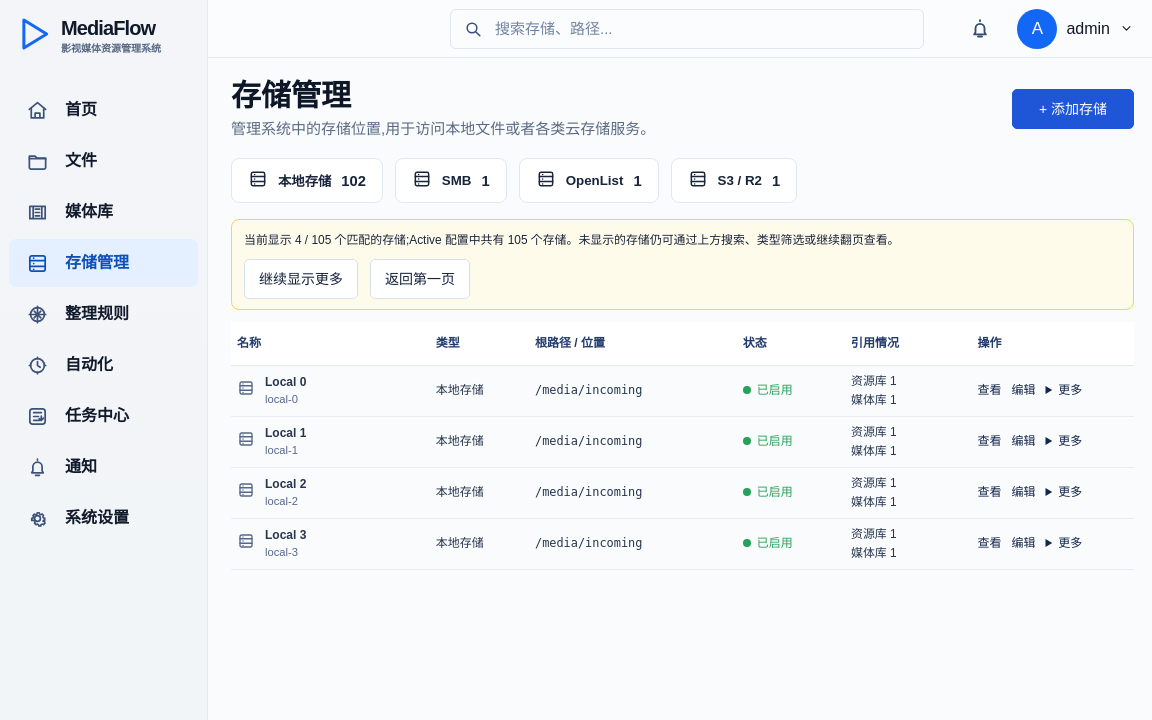
Test: Storage management journey › discloses truncation and reaches every Storage through bounded paging
Expected: the heading "存储管理" is shown, [231,79,351,112]
Expected: the table is shown, [231,322,1134,570]
# Explicit bounded continuation reaches the object beyond the page.
Click the button "继续显示更多" at [301, 279], box [244,259,358,299]
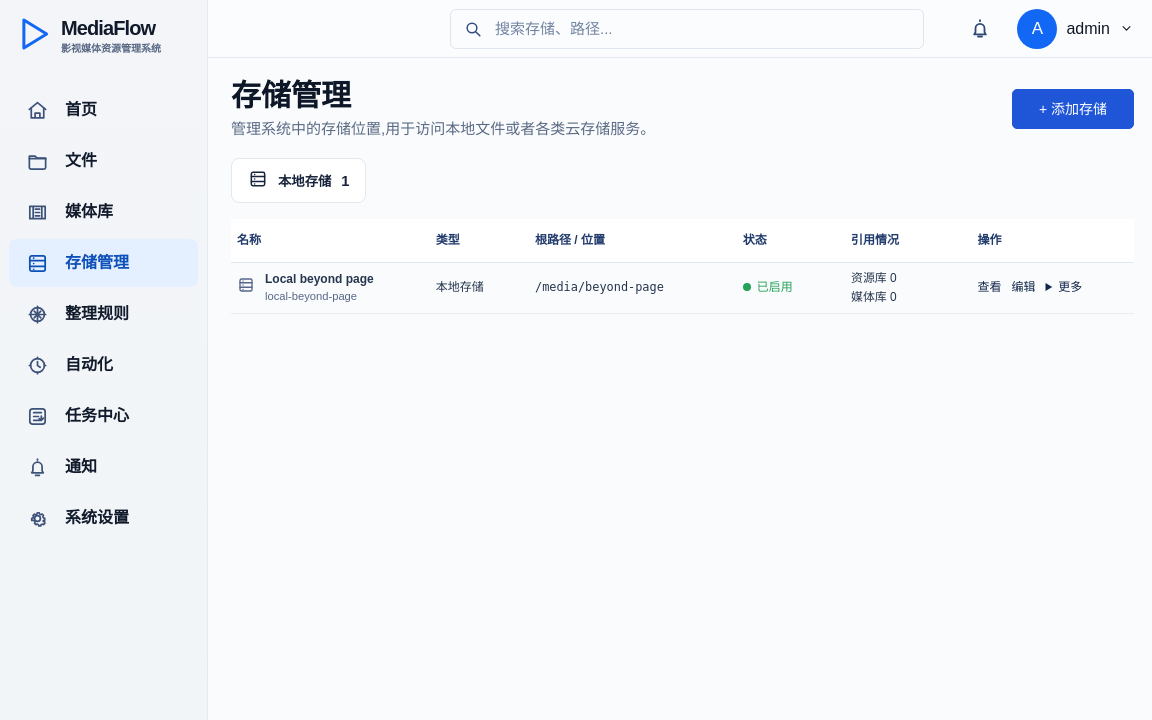
Expected: the text "Local beyond page" is shown, [265,270,374,288]
Expected: the text "当前显示 4 / 105 个匹配的存储" is gone
Type "local-0" into the search field labelled "搜索存储、路径" at [702, 28], box [493,19,911,38]
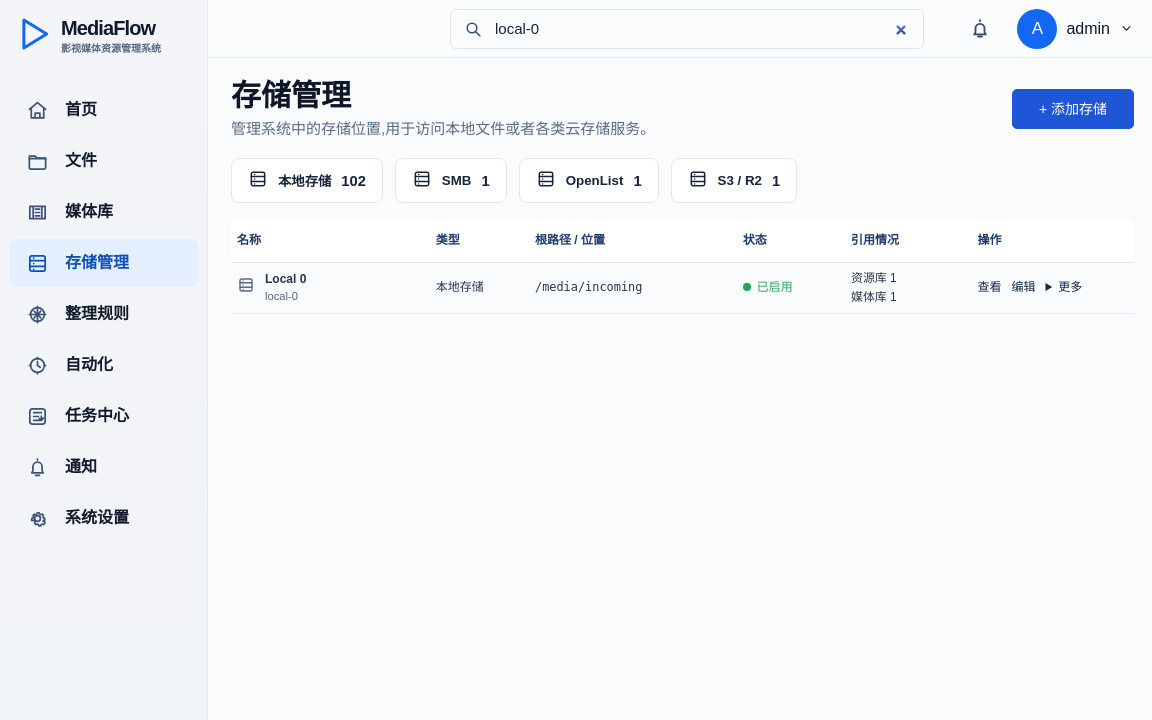
Expected: the text "Local 0" is shown, [265,270,306,288]
